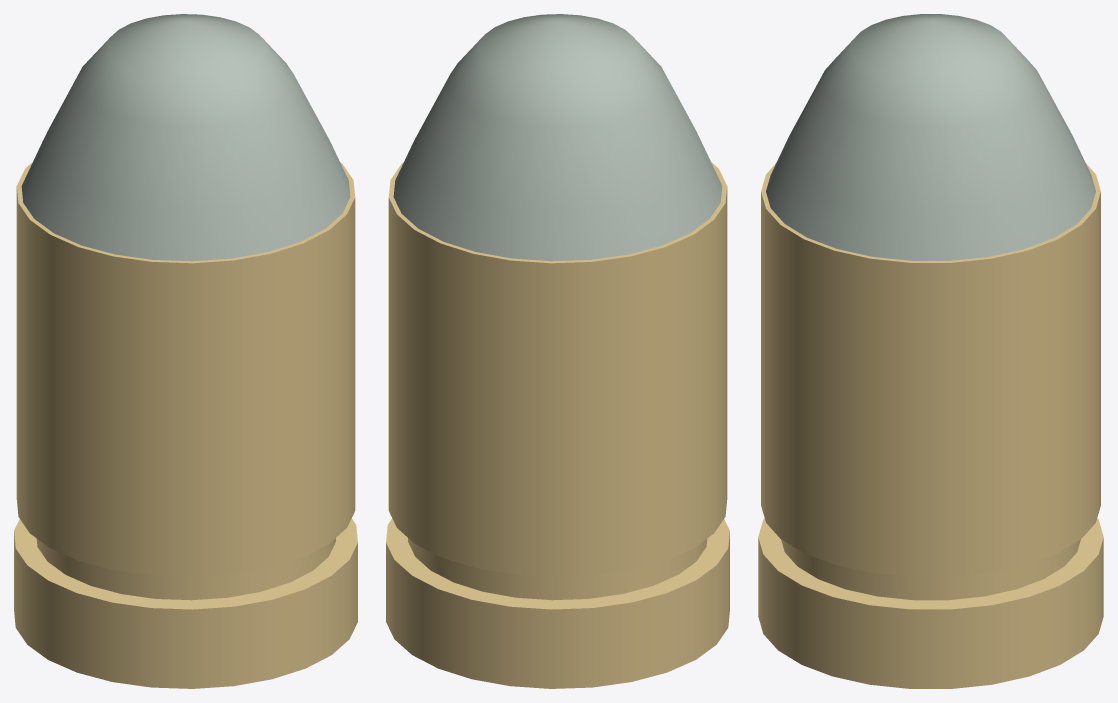
File: bala1.fbx
3 views of the same model, side by side, from view 1: azimuth 30°, elevation 25°; view 2: azimuth 150°, elevation 25°; view 3: azimuth 270°, elevation 25° (orthographic).
Parts seen in each view (by area): view 1: Cylinder; view 2: Cylinder; view 3: Cylinder.
Boxes of the visible parts, <box> form: Cylinder: <box>14,14,357,688</box>; Cylinder: <box>386,14,729,688</box>; Cylinder: <box>758,14,1103,688</box>.
Size of the model in its own units: 55.55 by 106 by 55.96.
